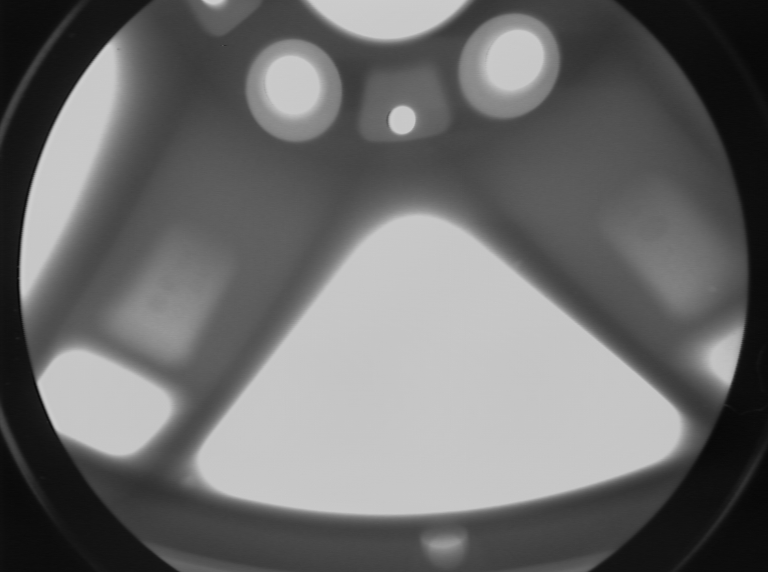defect: (171, 471, 198, 493)
